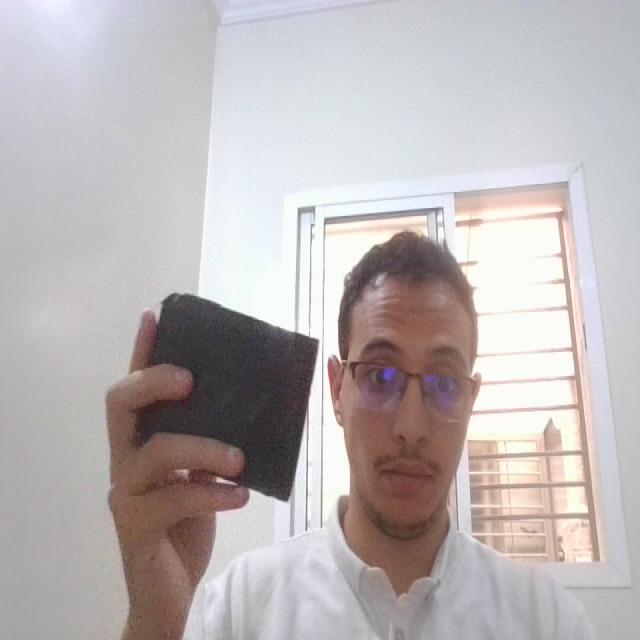wallet: (128, 284, 328, 509)
